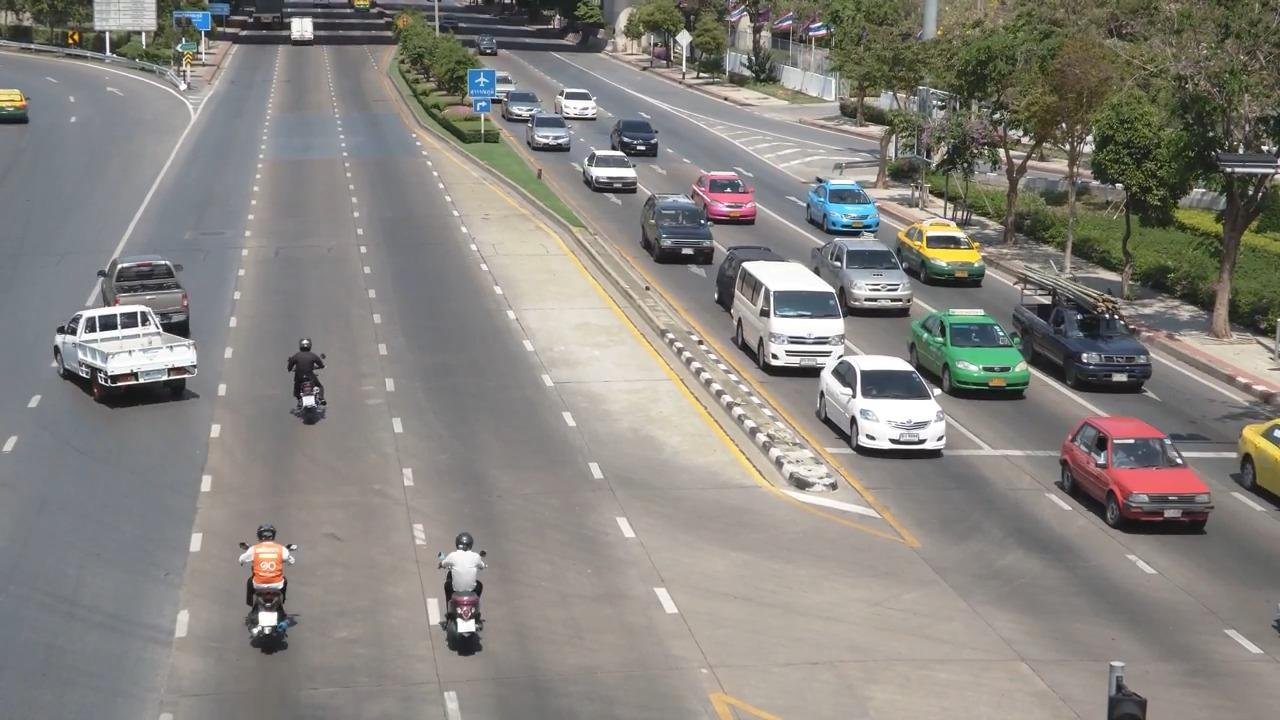CAR: (1057, 409, 1222, 548), (46, 301, 204, 422), (1012, 273, 1154, 397), (820, 348, 958, 455), (904, 296, 1033, 401), (731, 251, 844, 370), (100, 246, 208, 343), (892, 209, 989, 293), (819, 237, 916, 317), (634, 189, 722, 271), (796, 171, 890, 240), (689, 169, 762, 224), (581, 137, 641, 196), (604, 107, 672, 158), (276, 5, 336, 62), (523, 106, 576, 155), (504, 83, 547, 131), (557, 81, 605, 122)
MOTOR: (218, 519, 321, 663), (422, 533, 506, 665), (265, 330, 349, 441)
